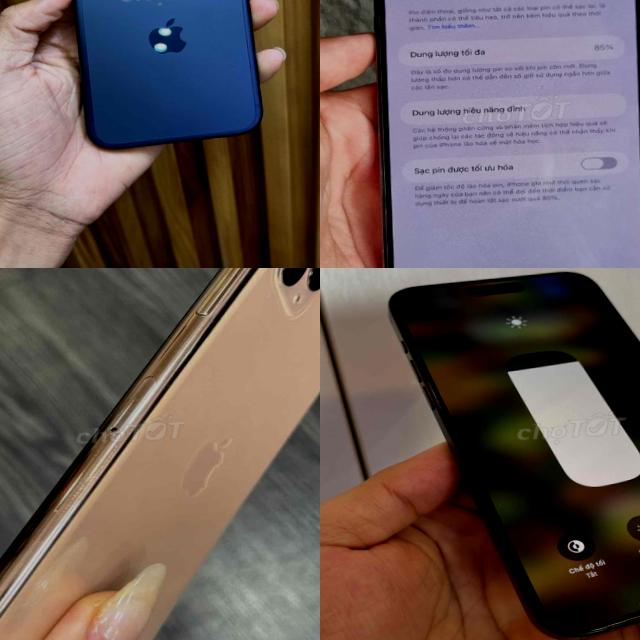gen_11: (0, 268, 320, 640)
gen_14: (354, 0, 640, 268)
gen_15: (373, 268, 640, 640)
gen_17: (50, 0, 283, 150)
